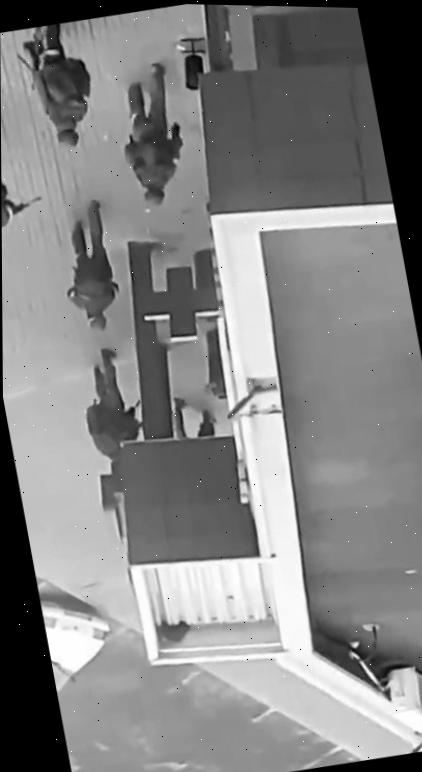car: (37, 583, 125, 731)
person: (107, 59, 192, 207), (11, 18, 101, 155), (46, 197, 126, 336), (71, 341, 148, 471), (1, 112, 50, 255)
